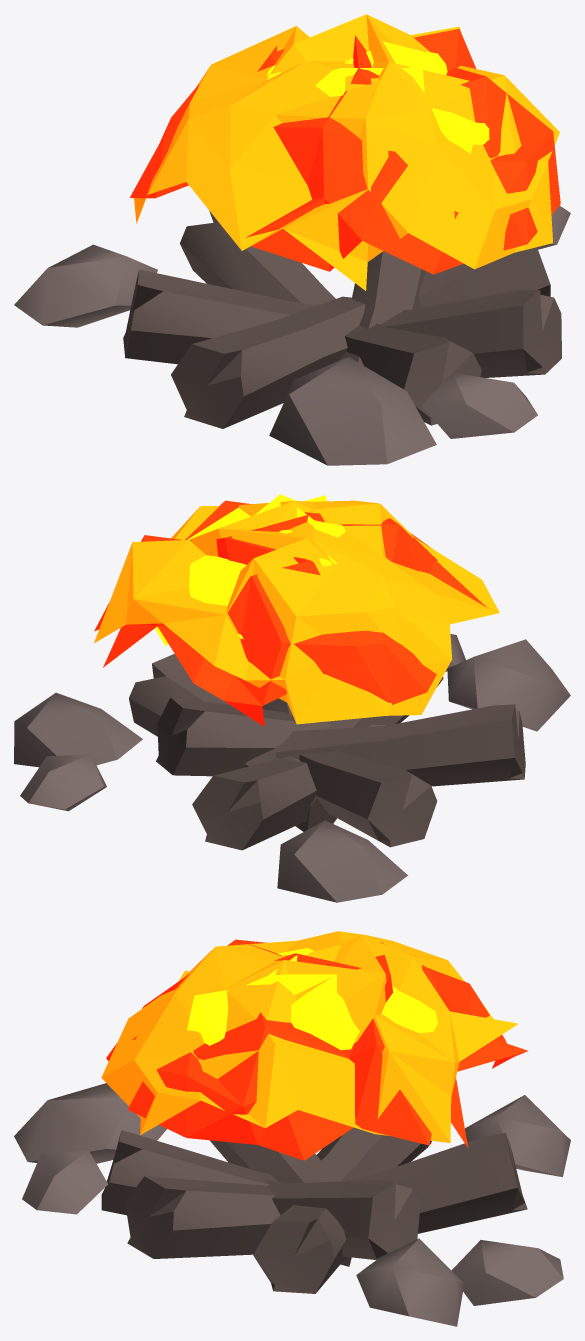
File: smelter.fbx
The picture shows the model from 3 angles, top to bottom: view 1: azimuth 30°, elevation 25°; view 2: azimuth 150°, elevation 25°; view 3: azimuth 270°, elevation 25°; orthographic projection. The views are drawn at different scales.
Parts seen in each view (by area): view 1: lava, fire; view 2: fire, lava; view 3: fire, lava.
Boxes of the visible parts, left/top/right/bottom form: lava: left=130, top=14, right=560, bottom=290; fire: left=14, top=205, right=570, bottom=465; fire: left=14, top=634, right=570, bottom=902; lava: left=94, top=494, right=499, bottom=726; fire: left=14, top=1083, right=570, bottom=1326; lava: left=101, top=931, right=527, bottom=1160.
Size of what is drawn, in the model's own units: 170 by 114 by 181.
